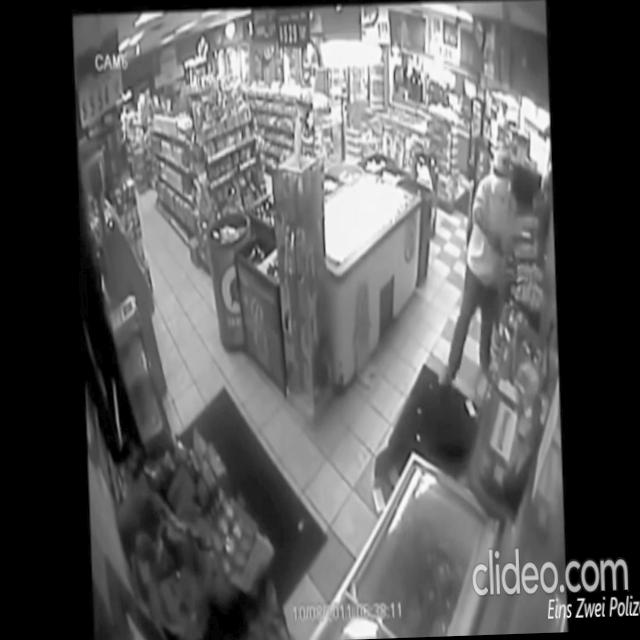gun: (492, 230, 506, 260)
person with a gun: (433, 145, 524, 385)
